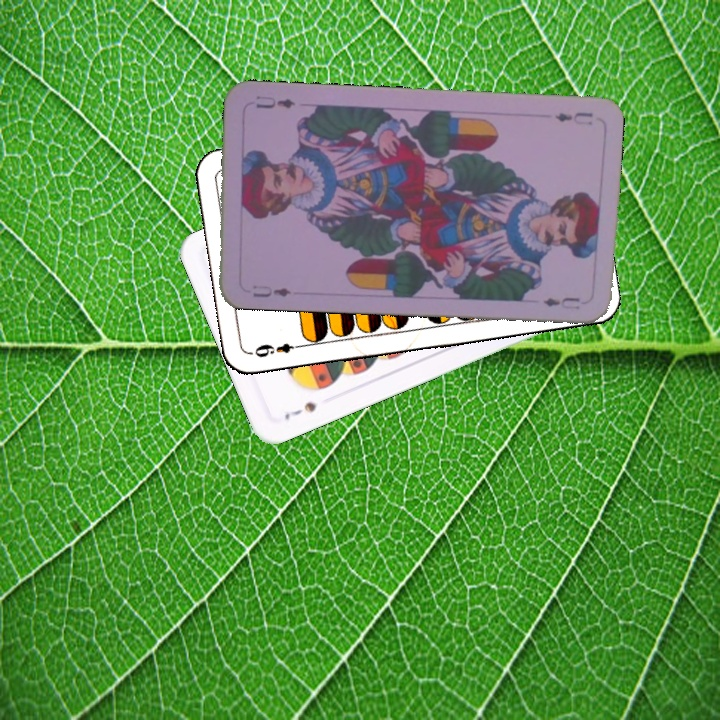E9: (248, 339, 307, 360)
EU: (550, 108, 595, 128), (249, 281, 293, 300)
S7: (280, 398, 319, 422)
